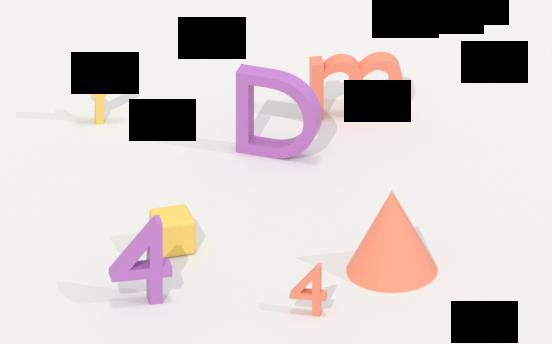4: (106, 217, 178, 306), (286, 261, 334, 319)
Y-hoa: (71, 64, 130, 126)
d: (229, 66, 331, 159)
hop: (144, 203, 202, 261)
m: (307, 52, 407, 118)
non: (339, 189, 442, 291)
